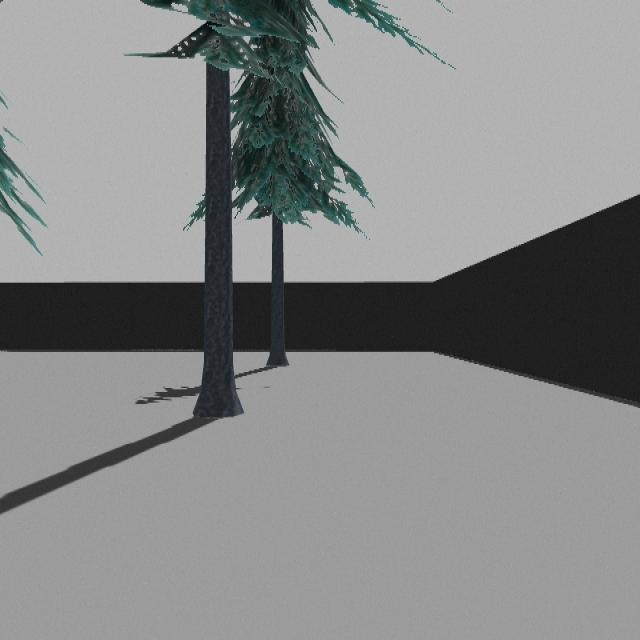tree: (139, 0, 306, 417), (231, 39, 370, 369)
